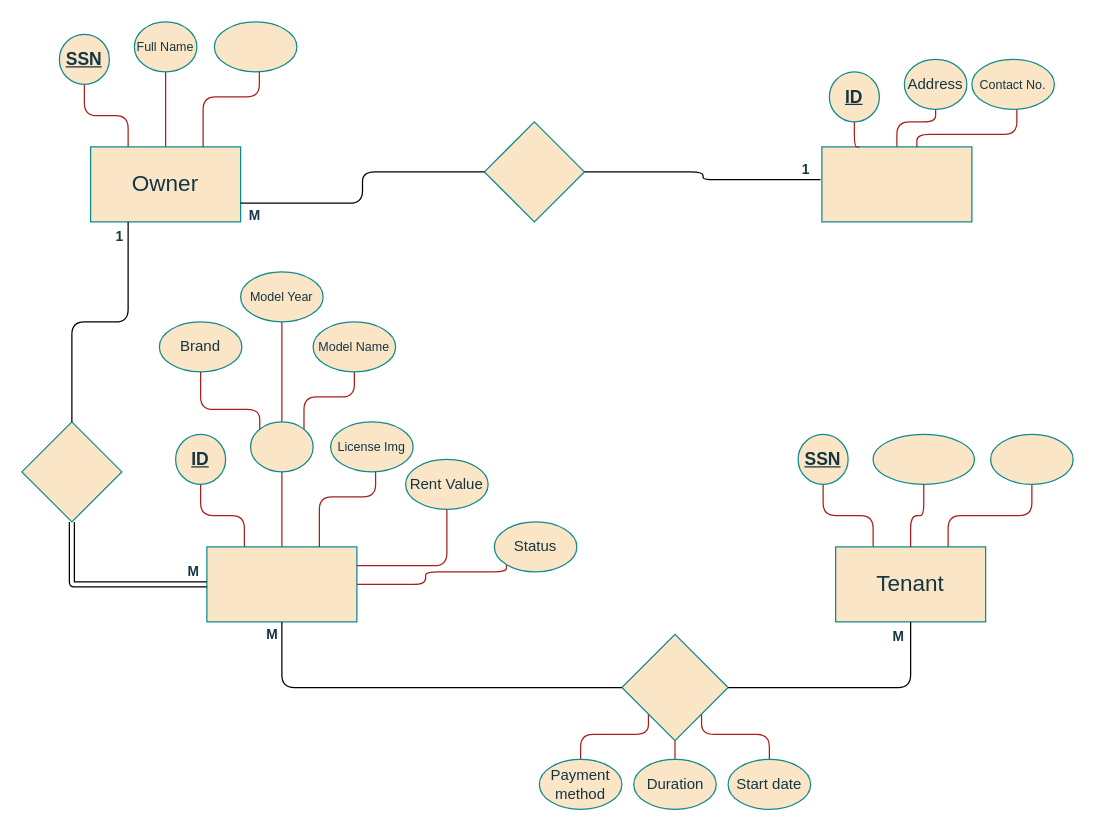
The diagram is 1095 pixels wide and 831 high, and some of its shapes have lost their labels. The box of each missing label's shape, as (x1, y1, x2, y2) in pixels:
Account No.: (213, 21, 297, 72)
Car: (206, 546, 357, 622)
Driving License: (872, 433, 974, 484)
Model: (249, 421, 313, 472)
Office: (821, 146, 972, 222)
Ordered by: (621, 633, 728, 741)
Phone: (989, 433, 1073, 484)
provide: (483, 121, 584, 222)
Rent: (21, 421, 122, 522)
